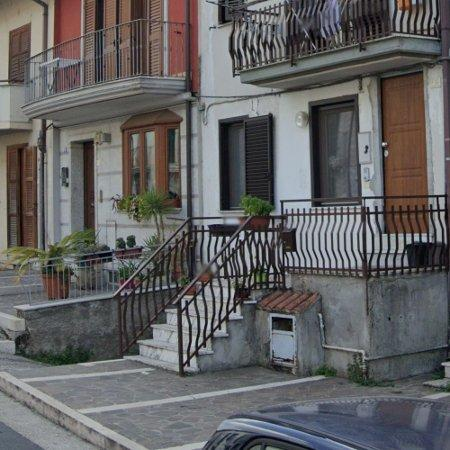stairs: (135, 218, 285, 374)
